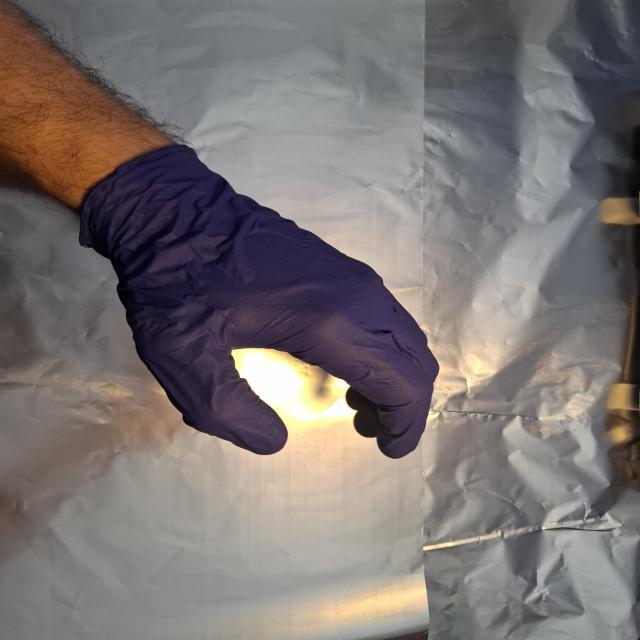glove_on: (74, 143, 447, 461)
